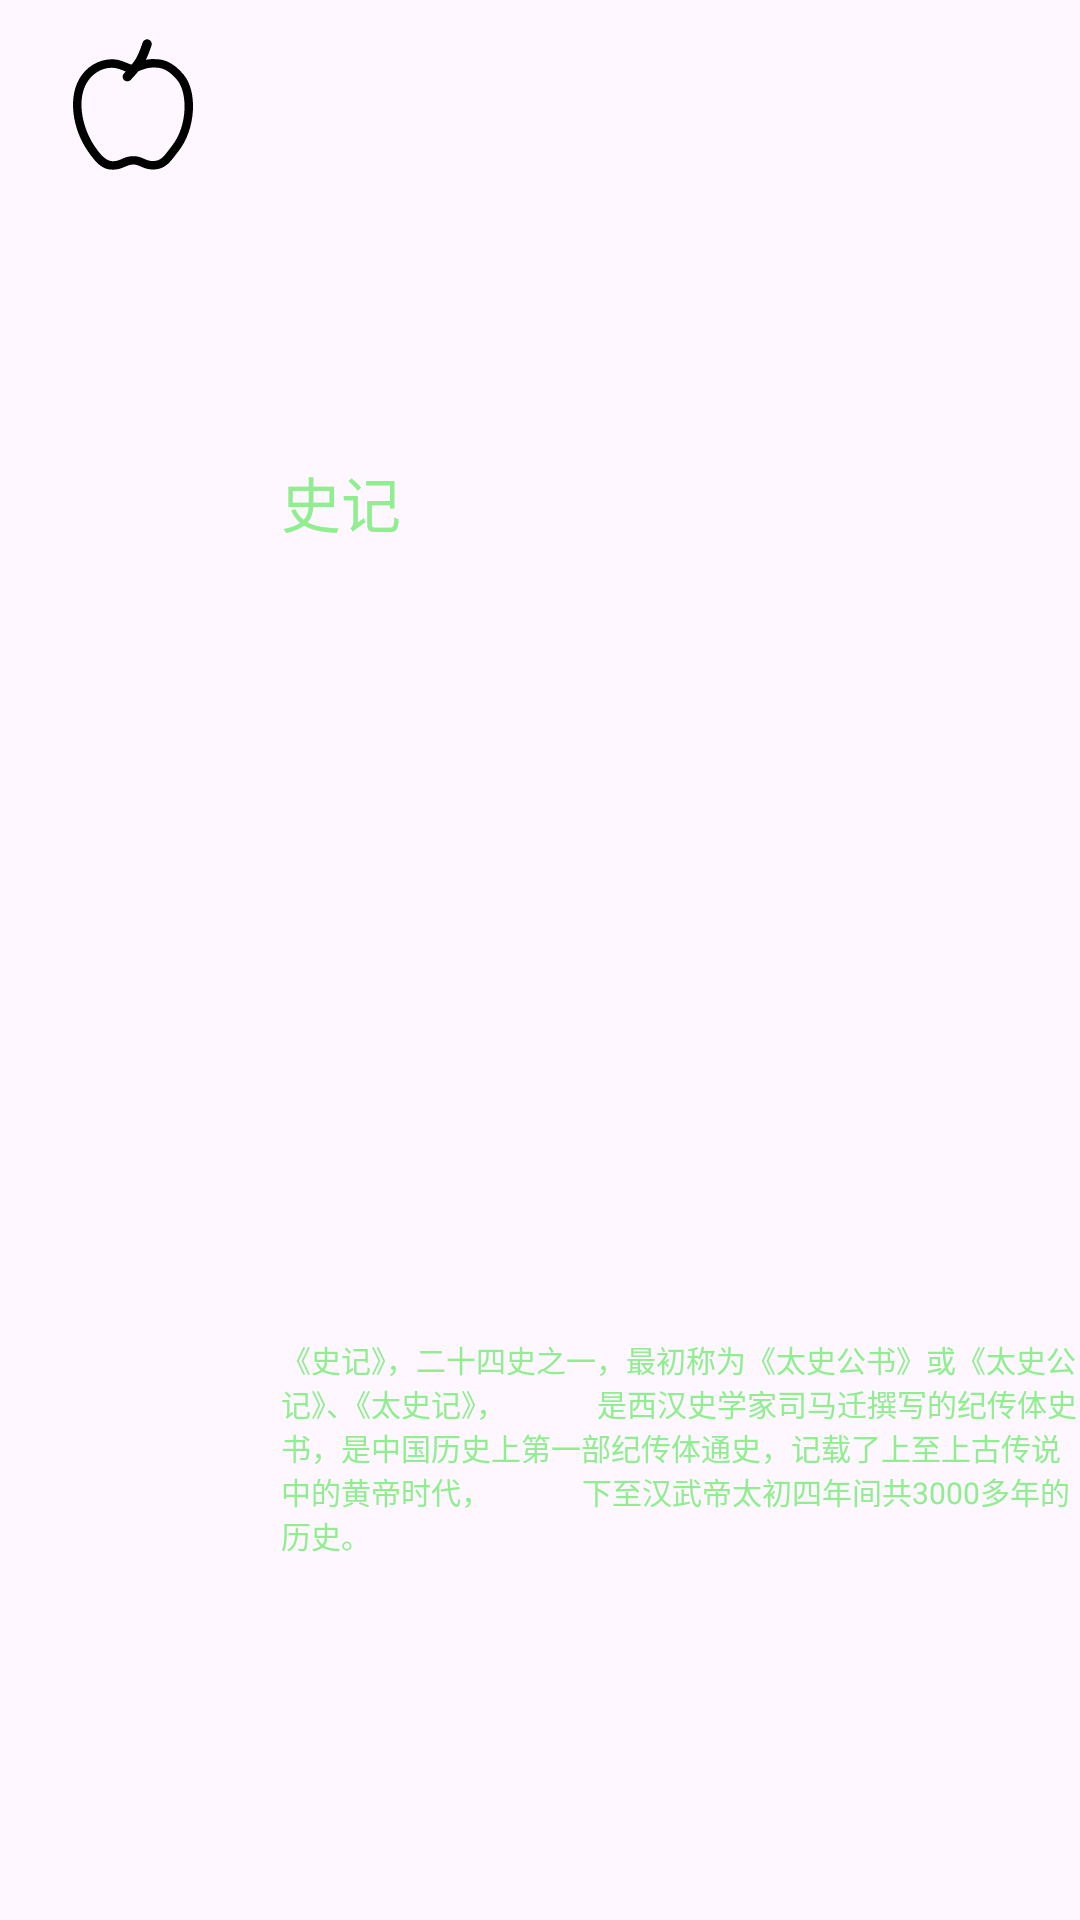

Icon bounding boxes for this 1080×1920 phone screenshot, format (x1, y1, x2, y2):
food apple: (73, 39, 193, 170)
